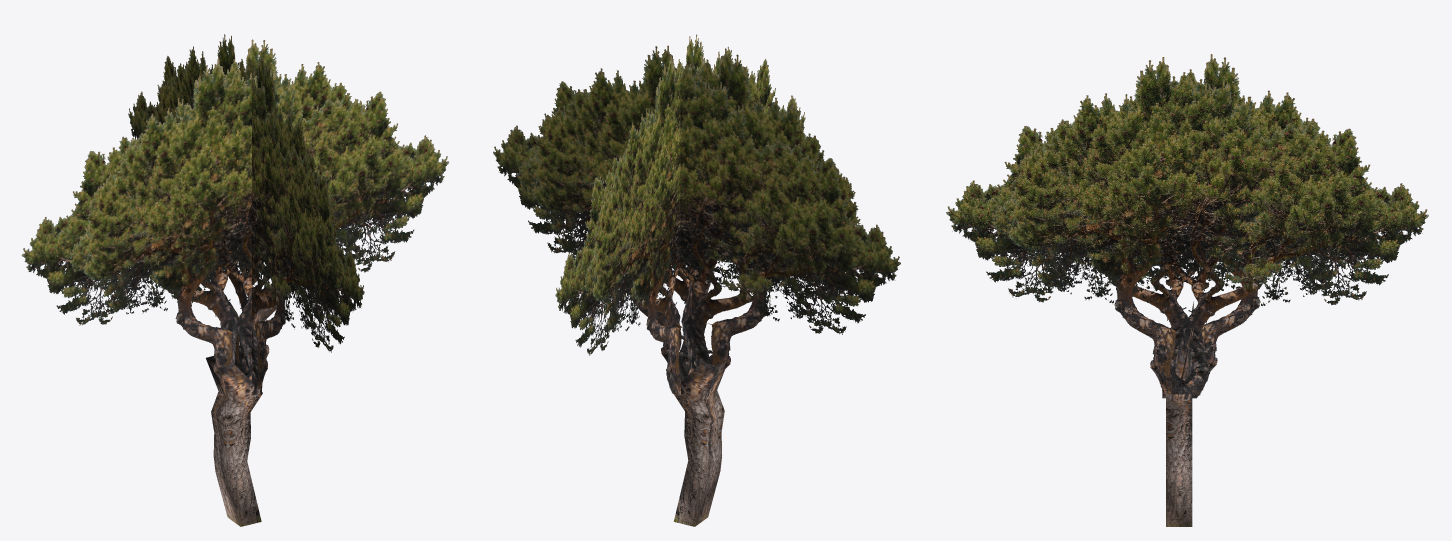
Rendered from SM_Tree_Pine_10.fbx.
The picture shows the model from 3 angles, left to right: view 1: azimuth 30°, elevation 25°; view 2: azimuth 150°, elevation 25°; view 3: azimuth 270°, elevation 25°; orthographic projection.
Visible parts, largest first — view 1: SM_Tree_Pine_10.001, SM_Tree_Pine_10; view 2: SM_Tree_Pine_10.001, SM_Tree_Pine_10; view 3: SM_Tree_Pine_10.001, SM_Tree_Pine_10.
Part boxes in pixels (<box>): SM_Tree_Pine_10.001: <box>21,34,448,397</box>; SM_Tree_Pine_10: <box>206,356,262,526</box>; SM_Tree_Pine_10.001: <box>493,34,900,396</box>; SM_Tree_Pine_10: <box>673,354,729,526</box>; SM_Tree_Pine_10.001: <box>946,54,1428,401</box>; SM_Tree_Pine_10: <box>1166,345,1192,526</box>.
Bounding box in the file's own units: 1295 × 1379 × 1307.
